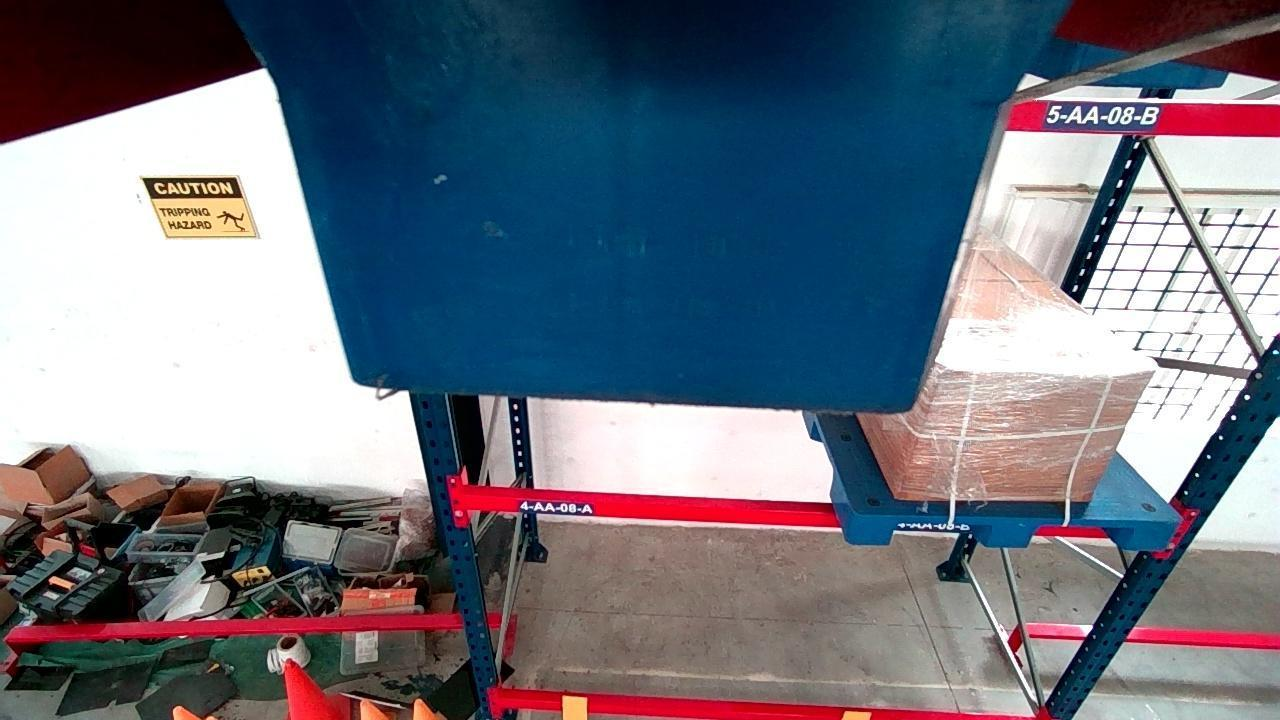h_rack: (462, 491, 834, 528), (495, 692, 1019, 717), (1007, 101, 1280, 133)
small_pallet: (848, 513, 1177, 549)
